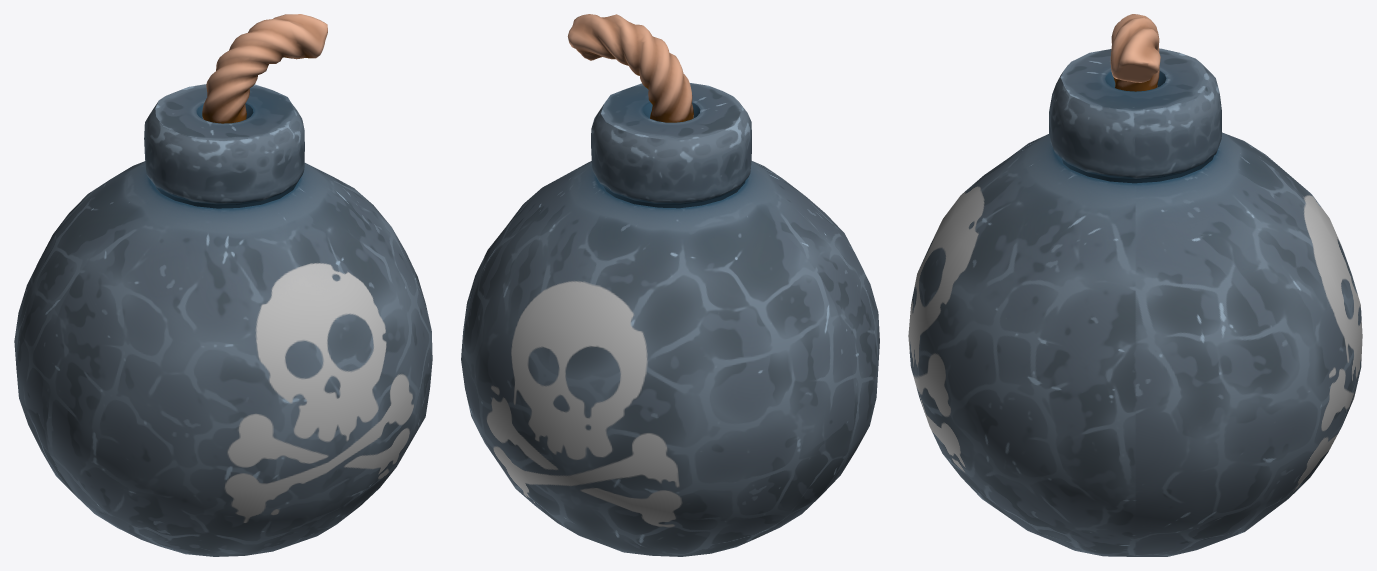
File: bomb.gltf
3 renders of one model, left to right at view 1: azimuth 30°, elevation 25°; view 2: azimuth 150°, elevation 25°; view 3: azimuth 270°, elevation 25°, orthographic. The views are drawn at different scales.
Visible parts, largest first — view 1: Stylized_Bomb; view 2: Stylized_Bomb; view 3: Stylized_Bomb.
Part boxes in pixels (bbox=[...]): Stylized_Bomb: bbox=[14, 14, 432, 556]; Stylized_Bomb: bbox=[461, 14, 879, 556]; Stylized_Bomb: bbox=[908, 14, 1362, 556].
Bounding box in the file's own units: 0.3452 × 0.4561 × 0.3447.
Materials: 1 (1 with a texture image).
